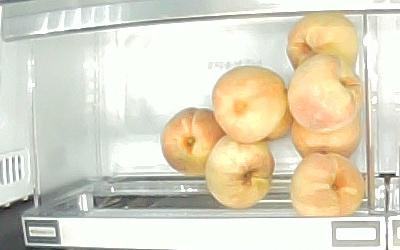peach: (211, 65, 288, 144), (287, 54, 364, 133), (204, 134, 275, 209), (288, 153, 366, 217), (158, 107, 226, 178), (287, 12, 358, 71), (291, 117, 360, 160)
